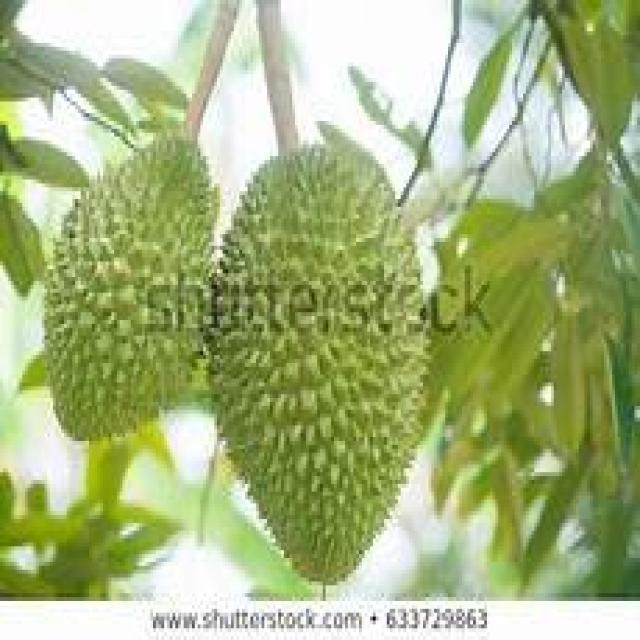immature: (203, 139, 432, 586), (36, 131, 220, 443)
